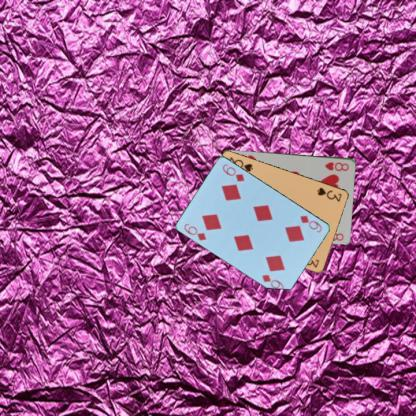3s: (314, 185, 344, 203)
6d: (181, 221, 208, 242), (298, 212, 324, 233)
8h: (323, 159, 350, 172)
